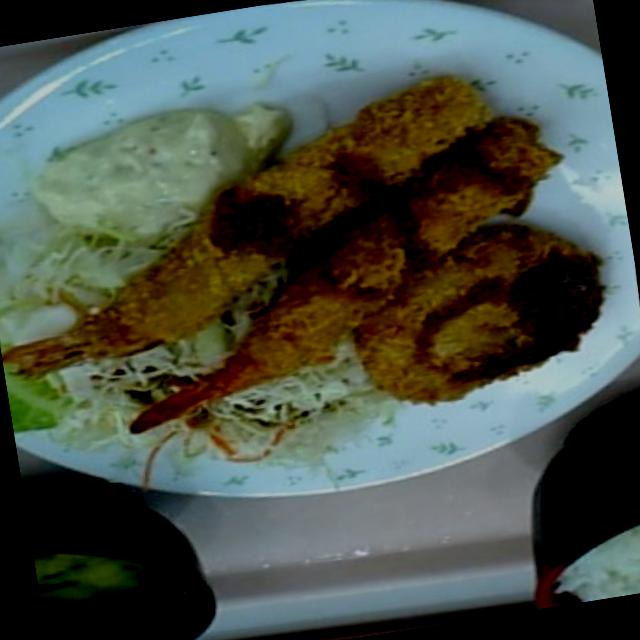Rice: (572, 531, 640, 602)
